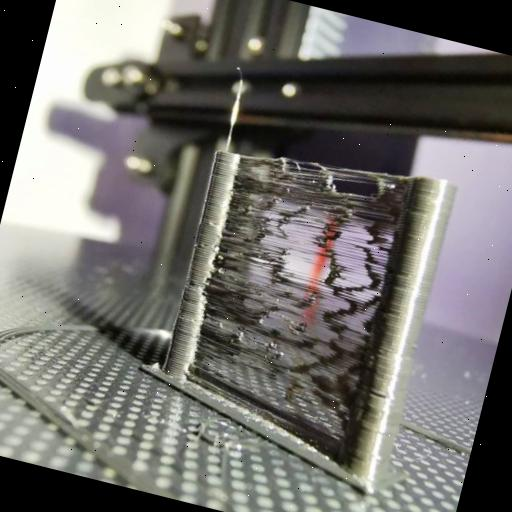stringing: (178, 130, 436, 435)
